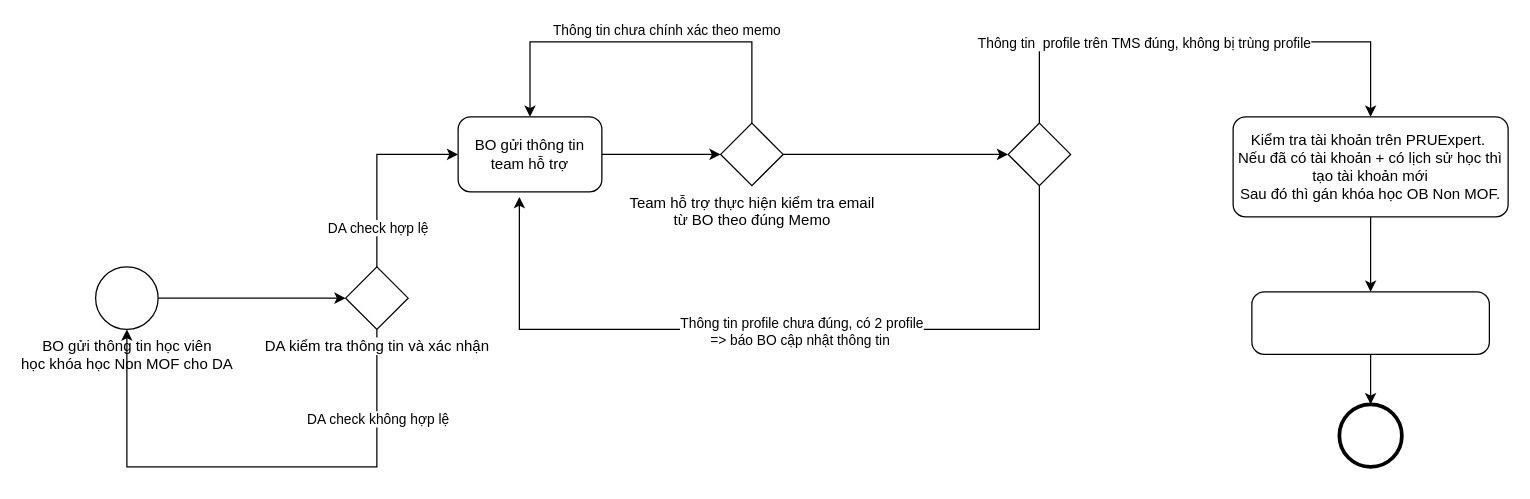
Some shapes in this 1530 by 499 pixel diagram are drawn without their labels. The box of each missing label's shape, as (x1, y1, x2, y2) in pixels:
Phản hồi thông tin cho BO về tài khoản, thông tin khóa học dã gán.: (1251, 291, 1489, 354)
Team hỗ trợ kiểm tra và đối chiếu thông tin profile trên TMS: (1007, 122, 1071, 186)
